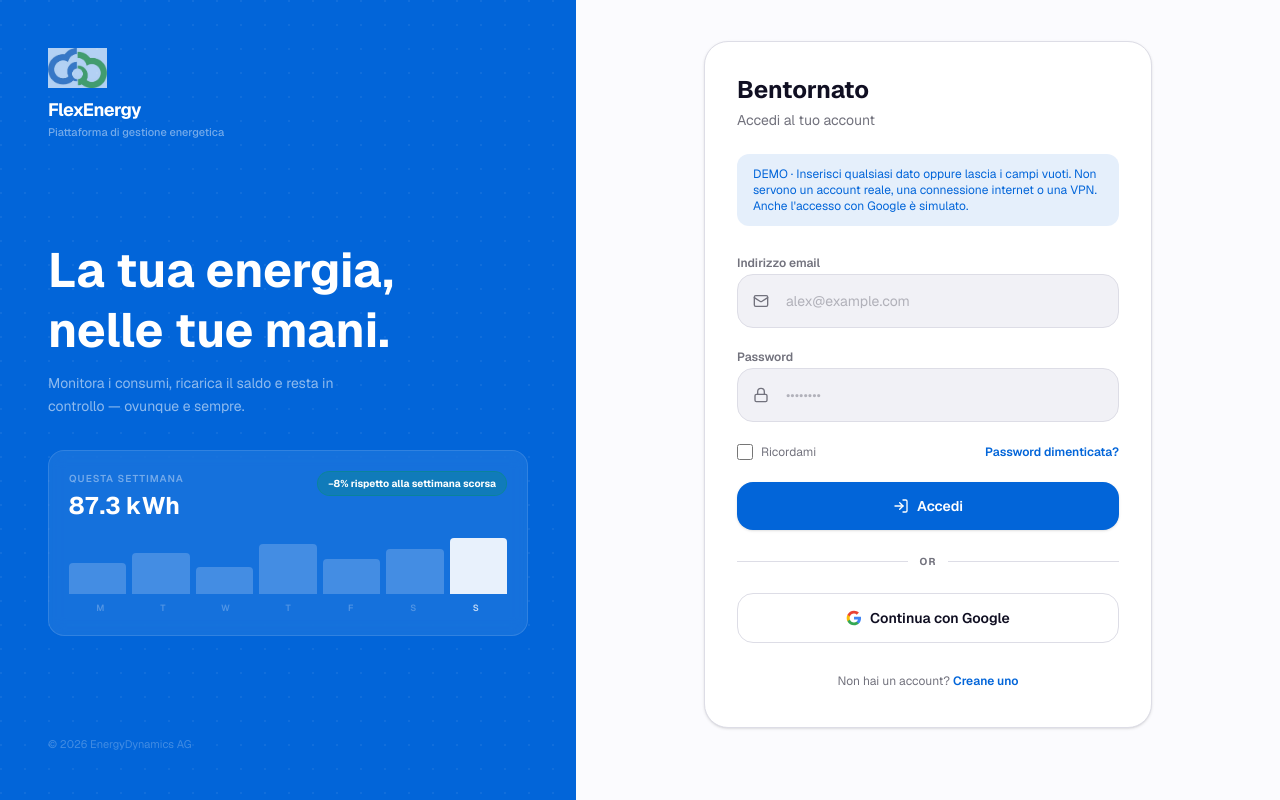
demo routes without a data connection › renders /recharge with local data
The image size is (1280, 800).
Click the button "Accedi" at (928, 506), box [737,482,1119,530]
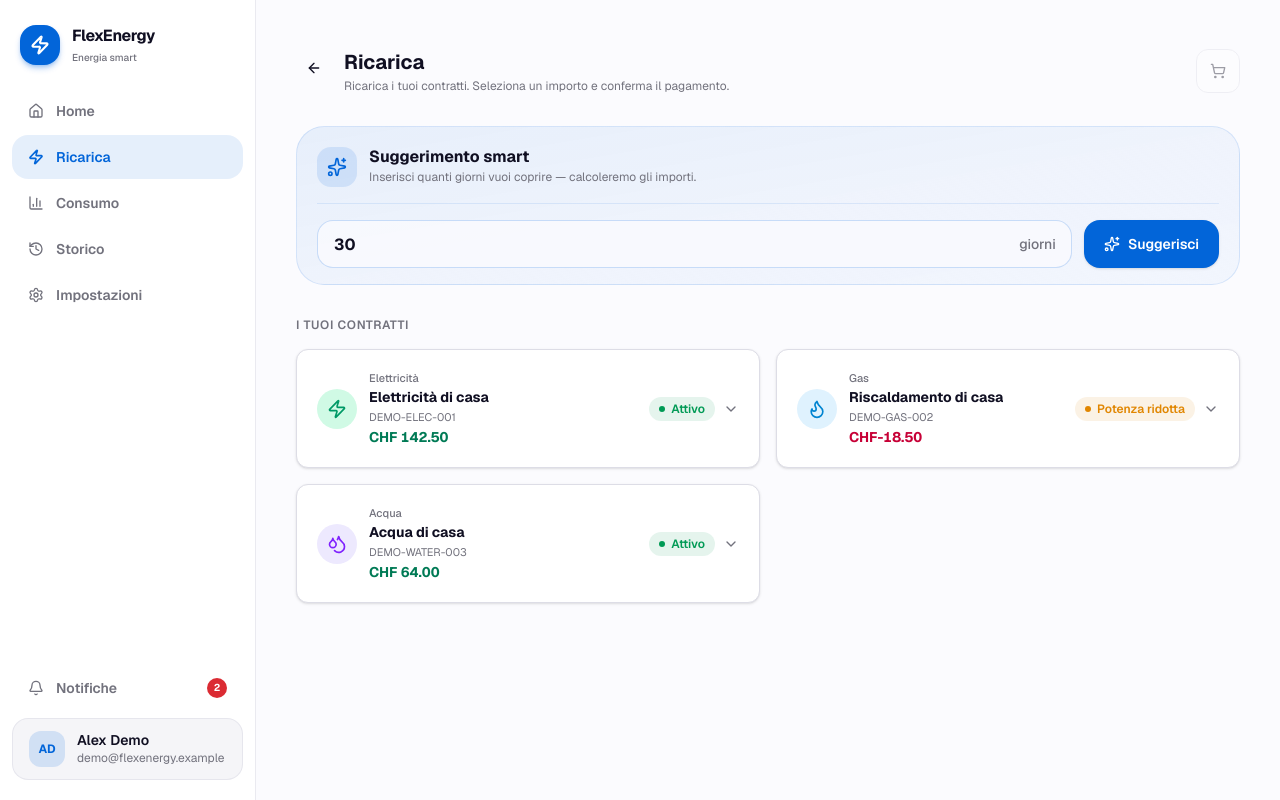
Expected: the button "Home" is shown, [12,89,243,133]
Expected: the heading "Ricarica" is shown, [344,49,424,75]
